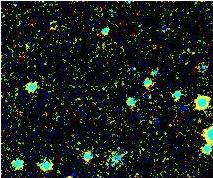star: (168, 97, 198, 127)
